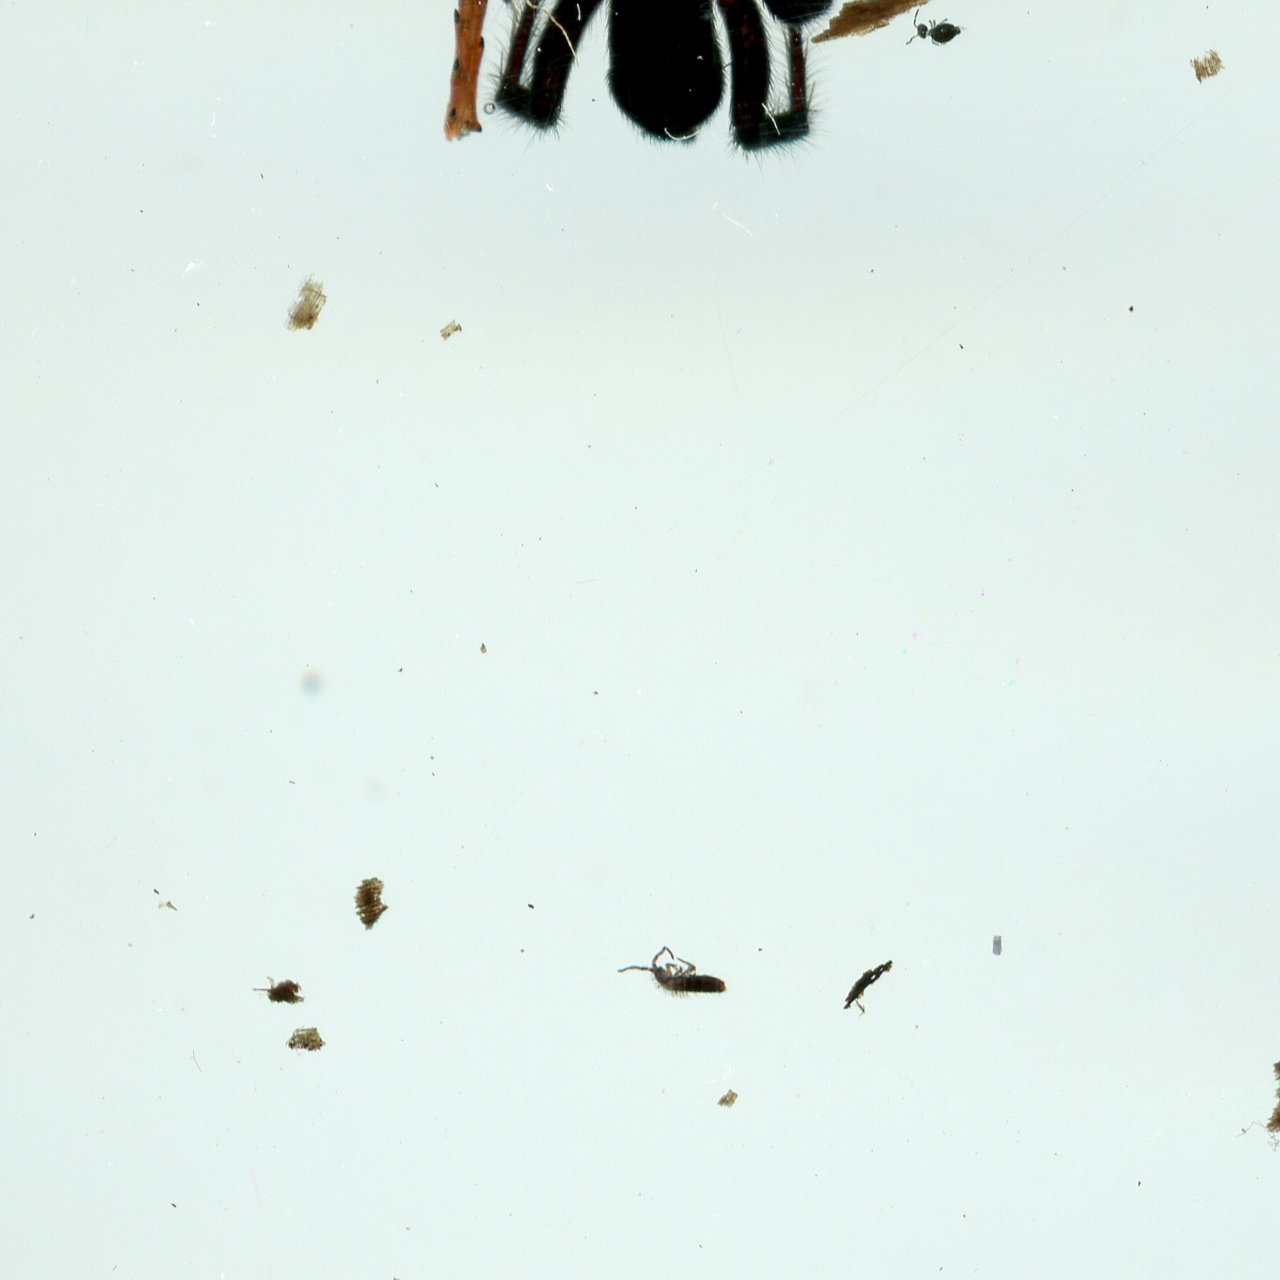arthropod: (472, 0, 863, 179), (613, 942, 734, 1003), (469, 0, 523, 39)
